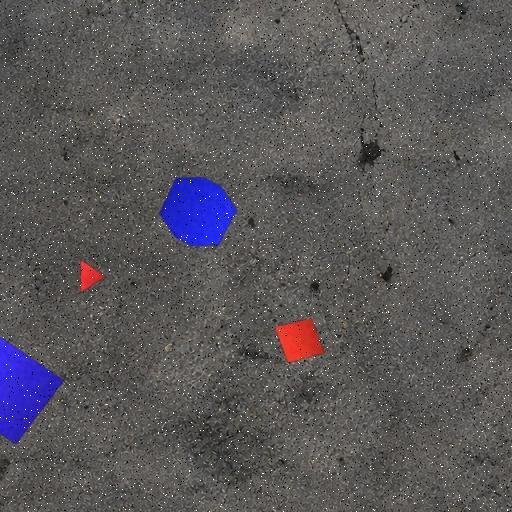BLUE_SQUARE: (0, 336, 65, 446)
RED_SQUARE: (274, 318, 324, 364)
